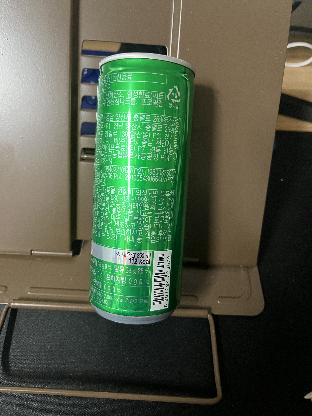Can: (90, 51, 199, 326)
